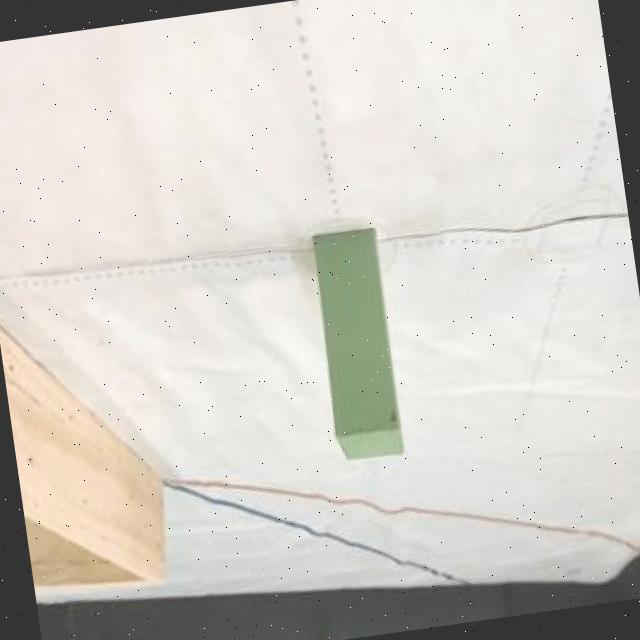greenbox: (308, 228, 411, 472)
